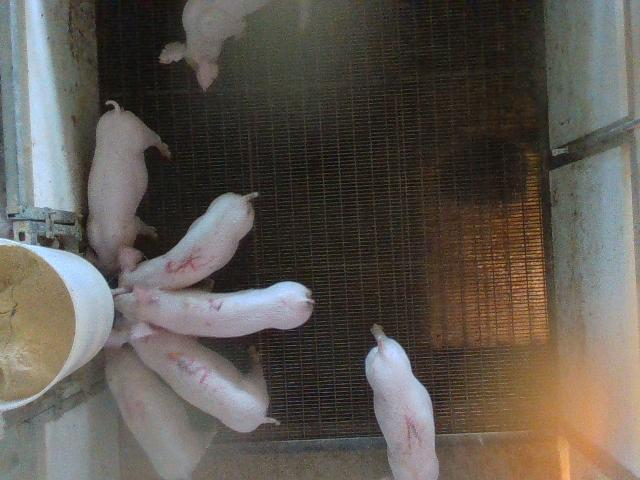pig-1: (365, 325, 439, 479)
pig-3: (130, 329, 279, 432)
pig-4: (106, 345, 208, 478)
pig-5: (116, 192, 256, 289)
